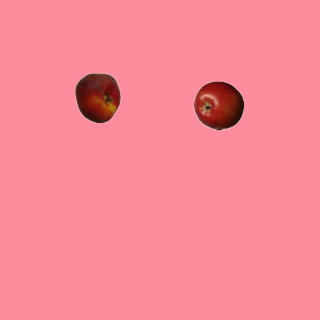Apple Braeburn: (193, 80, 243, 130)
Nectarine Flat: (72, 72, 122, 122)
